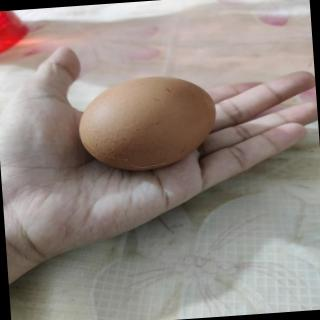Telur: (76, 70, 226, 178)
